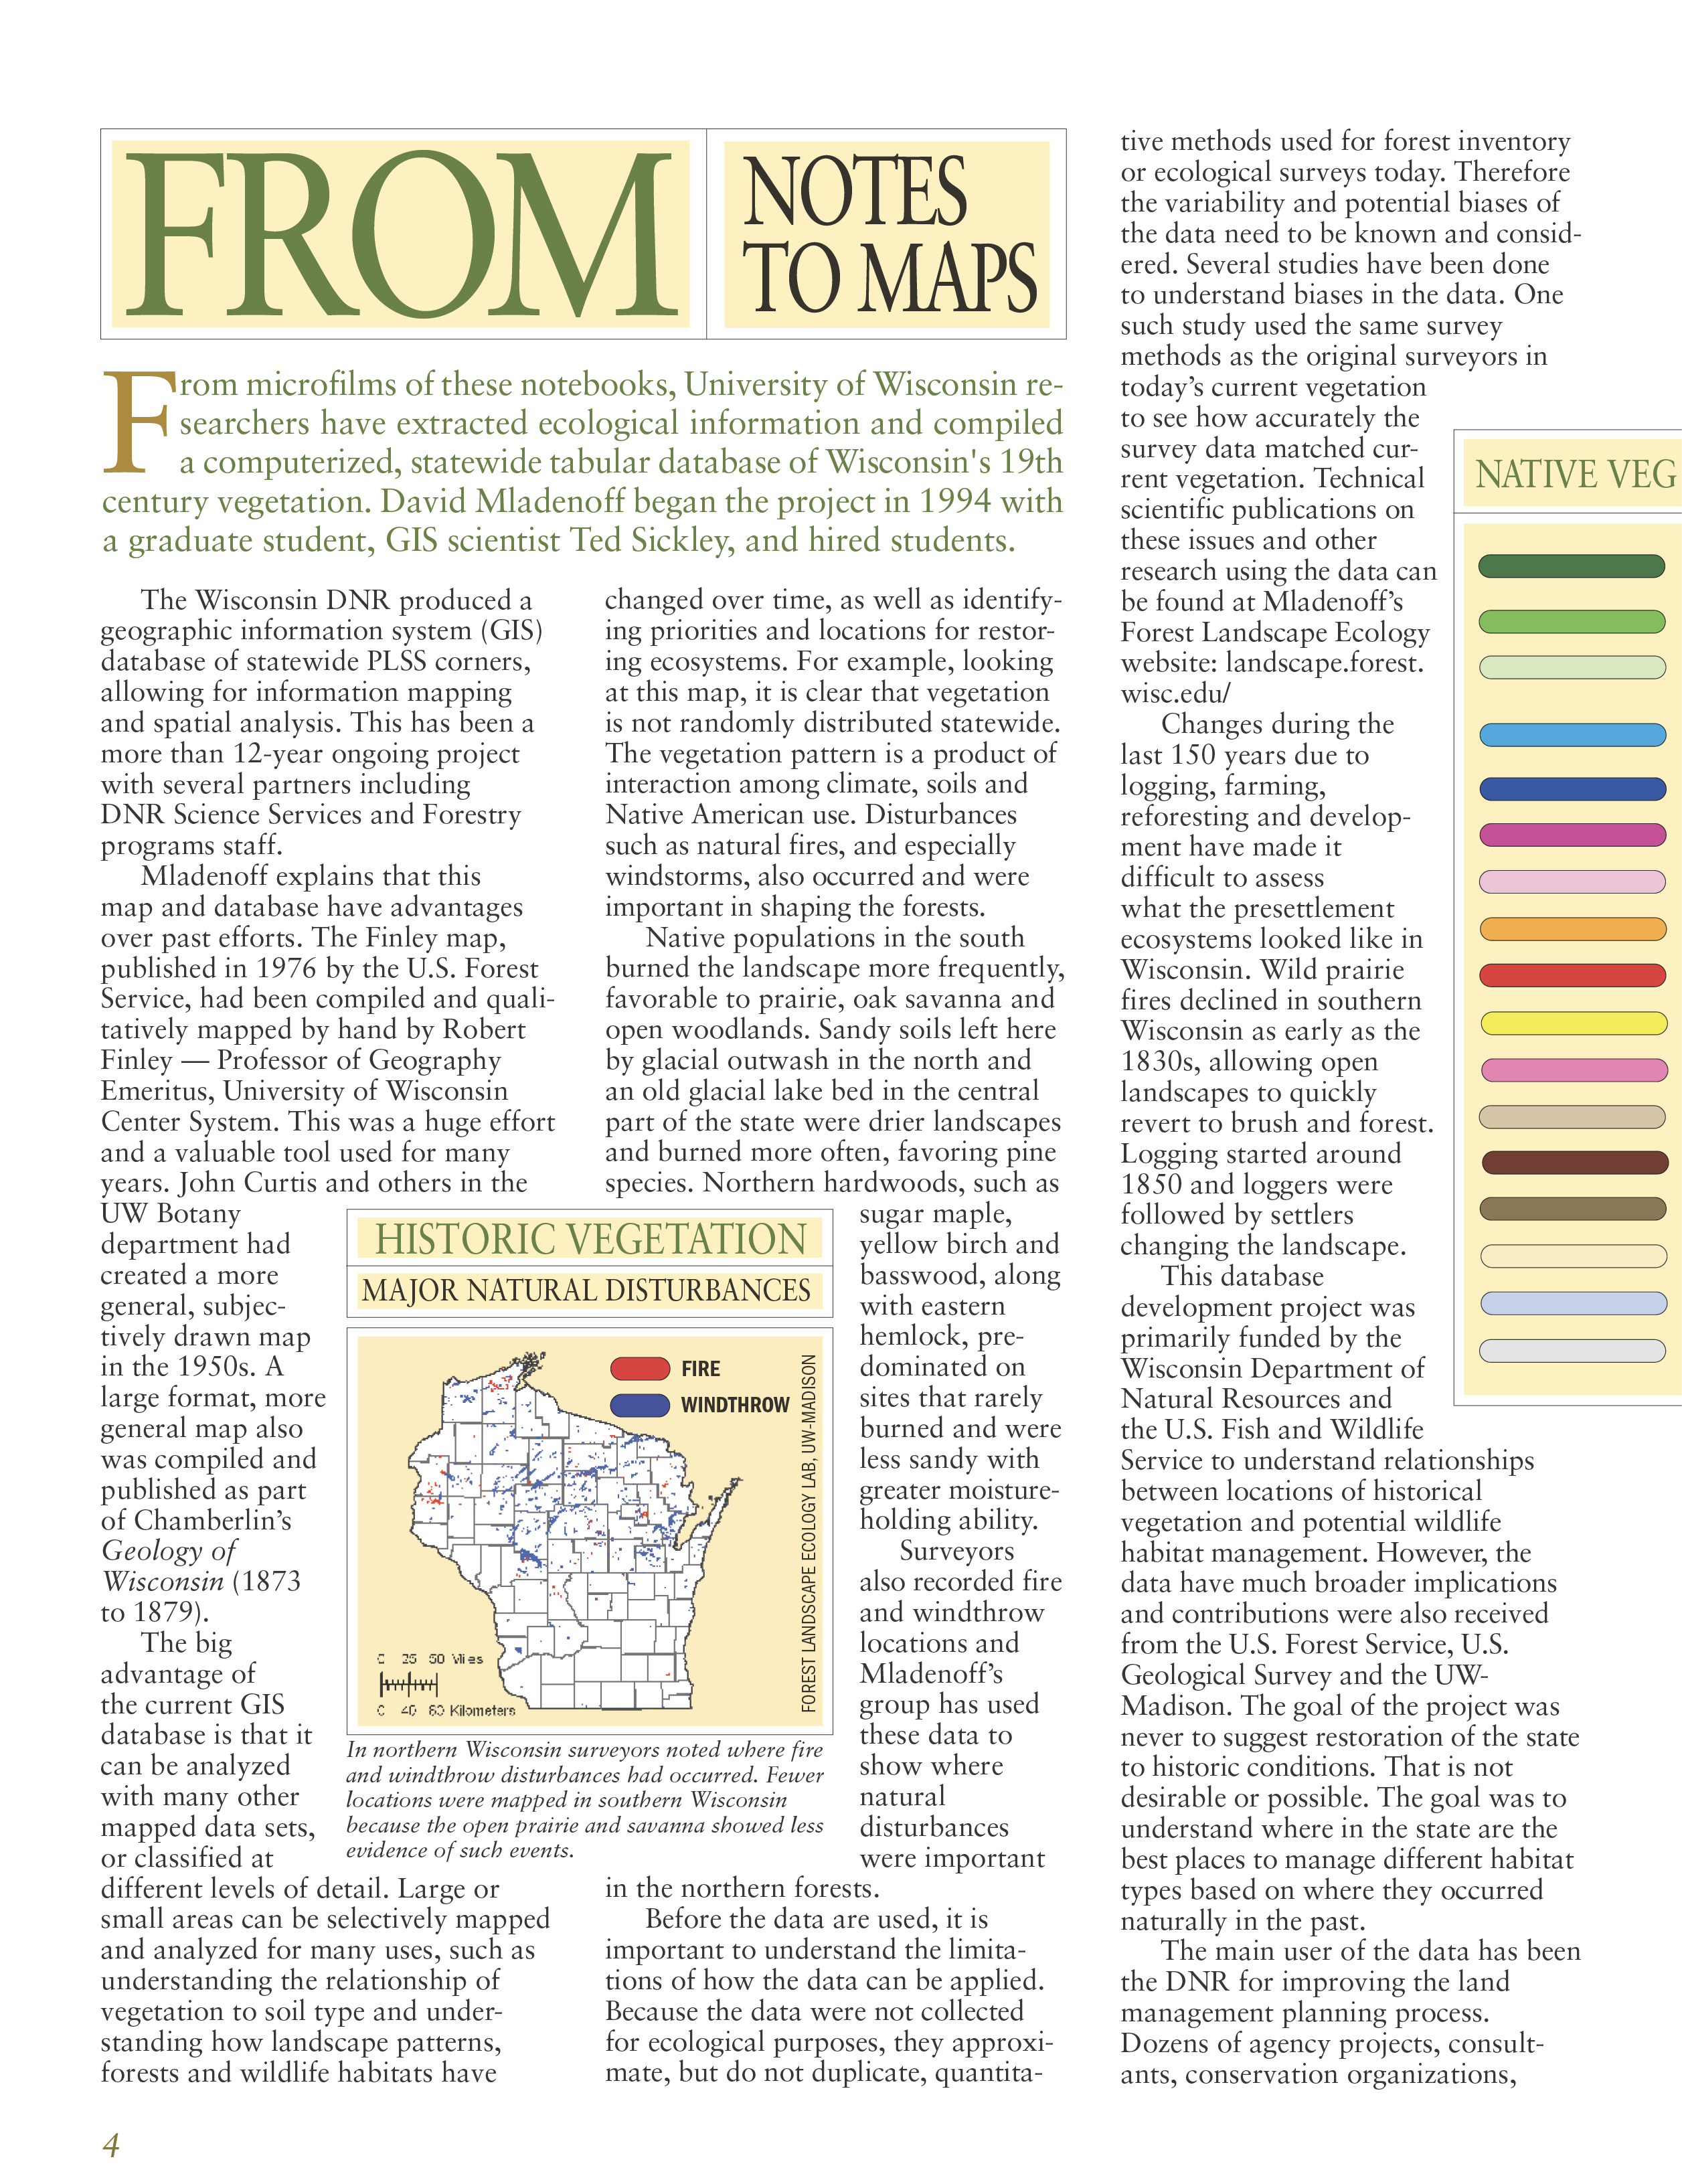figure: (357, 1338, 830, 1716), (1466, 530, 1671, 1394)
section: (125, 145, 677, 320), (735, 147, 1055, 327), (357, 1212, 823, 1318), (1468, 452, 1664, 497)
text: (1113, 1276, 1585, 1924), (1113, 131, 1578, 701), (97, 1636, 555, 2082), (102, 359, 1065, 567), (1122, 716, 1428, 1263), (599, 580, 1069, 921), (99, 866, 558, 1203), (610, 931, 1055, 1200), (99, 594, 535, 850), (99, 1216, 320, 1626), (606, 1917, 1055, 2097), (1118, 1937, 1585, 2087), (859, 1209, 1069, 1532), (862, 1550, 1053, 1861), (353, 1735, 830, 1857), (602, 1873, 873, 1908)
